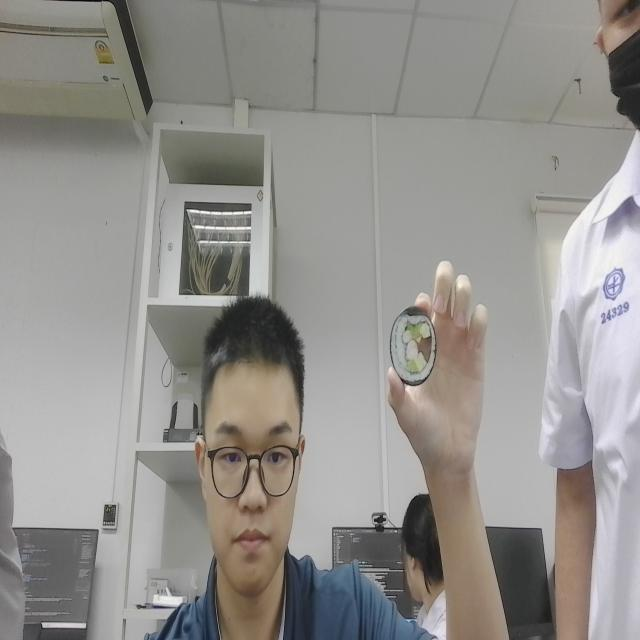sushi: (386, 288, 442, 402)
